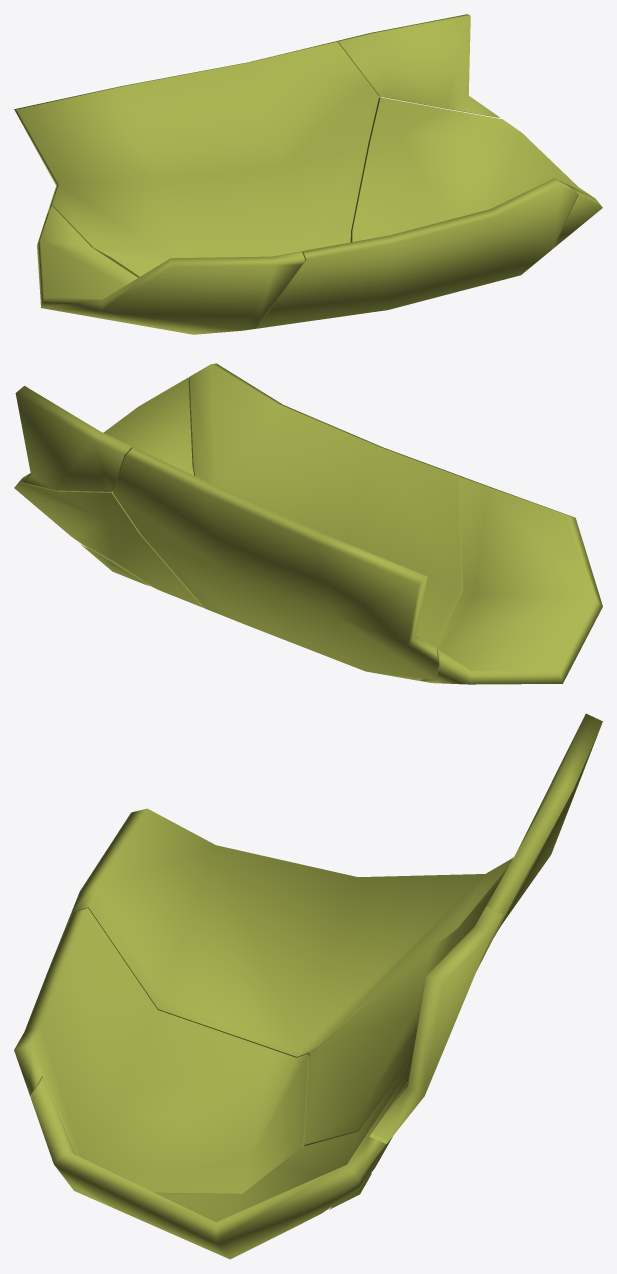
File: Plaque_16.fbx
3 views of the same model, one above another, from view 1: azimuth 30°, elevation 25°; view 2: azimuth 150°, elevation 25°; view 3: azimuth 270°, elevation 25° (orthographic). The views are drawn at different scales.
Visible parts, largest first — view 1: tooth_u.041_cell.005, tooth_u.041_cell.001, tooth_u.041_cell, tooth_u.041_cell.003, tooth_u.041_cell.002; view 2: tooth_u.041_cell.005, tooth_u.041_cell.001, tooth_u.041_cell.003, tooth_u.041_cell, tooth_u.041_cell.002; view 3: tooth_u.041_cell.003, tooth_u.041_cell.001, tooth_u.041_cell, tooth_u.041_cell.005, tooth_u.041_cell.002.
Boxes of the visible parts, <box> form: tooth_u.041_cell.005: <box>14,41,378,277</box>; tooth_u.041_cell.001: <box>255,178,577,328</box>; tooth_u.041_cell: <box>350,97,602,249</box>; tooth_u.041_cell.003: <box>37,206,305,334</box>; tooth_u.041_cell.002: <box>335,14,499,117</box>; tooth_u.041_cell.005: <box>113,447,438,680</box>; tooth_u.041_cell.001: <box>188,363,465,646</box>; tooth_u.041_cell.003: <box>420,477,602,684</box>; tooth_u.041_cell: <box>14,378,204,608</box>; tooth_u.041_cell.002: <box>15,386,132,491</box>; tooth_u.041_cell.003: <box>71,808,513,1057</box>; tooth_u.041_cell.001: <box>14,908,309,1209</box>; tooth_u.041_cell: <box>31,1057,412,1259</box>; tooth_u.041_cell.005: <box>304,713,602,1145</box>; tooth_u.041_cell.002: <box>372,907,502,1140</box>.
Bounding box in the file's own units: 97.36 × 39.68 × 62.49.
